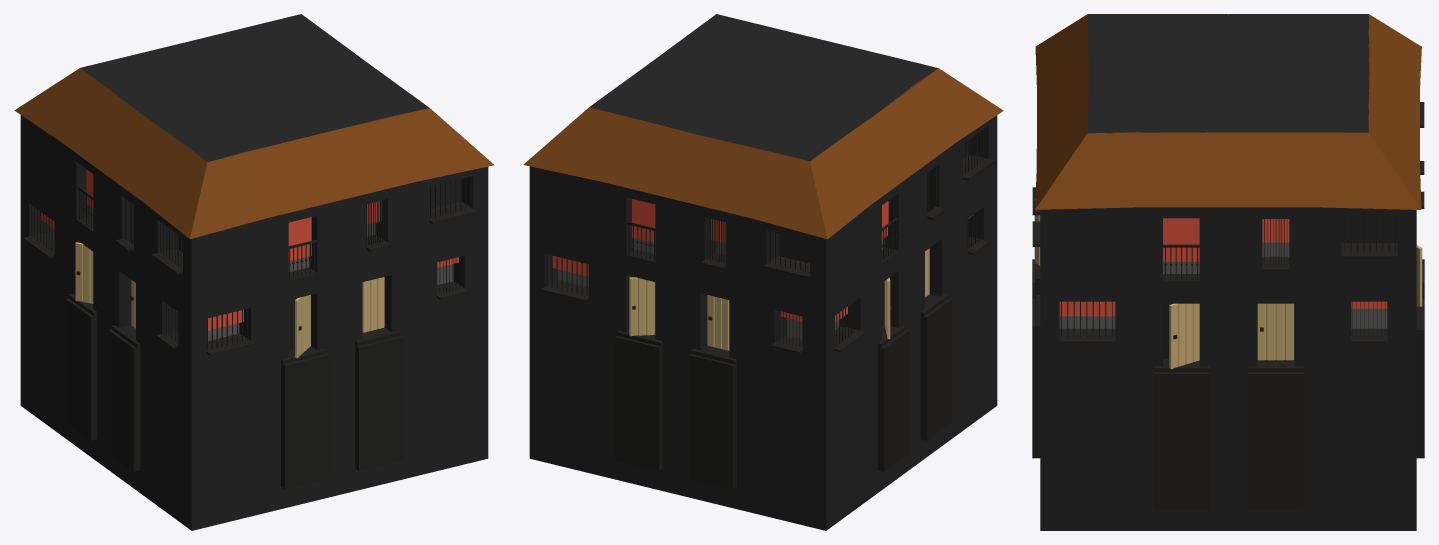
Rendered from casa_procedural_relleno_Con sotano_6.fbx.
3 renders of one model, left to right at view 1: azimuth 30°, elevation 25°; view 2: azimuth 150°, elevation 25°; view 3: azimuth 270°, elevation 25°, orthographic. The views are drawn at different scales.
Visible parts, largest first — view 1: casa procedural_relleno_Con sotano_6; view 2: casa procedural_relleno_Con sotano_6; view 3: casa procedural_relleno_Con sotano_6.
Part boxes in pixels (<box>): casa procedural_relleno_Con sotano_6: <box>14,14,494,530</box>; casa procedural_relleno_Con sotano_6: <box>523,14,1003,530</box>; casa procedural_relleno_Con sotano_6: <box>1032,14,1424,530</box>.
Bounding box in the file's own units: 418 × 444 × 418.
